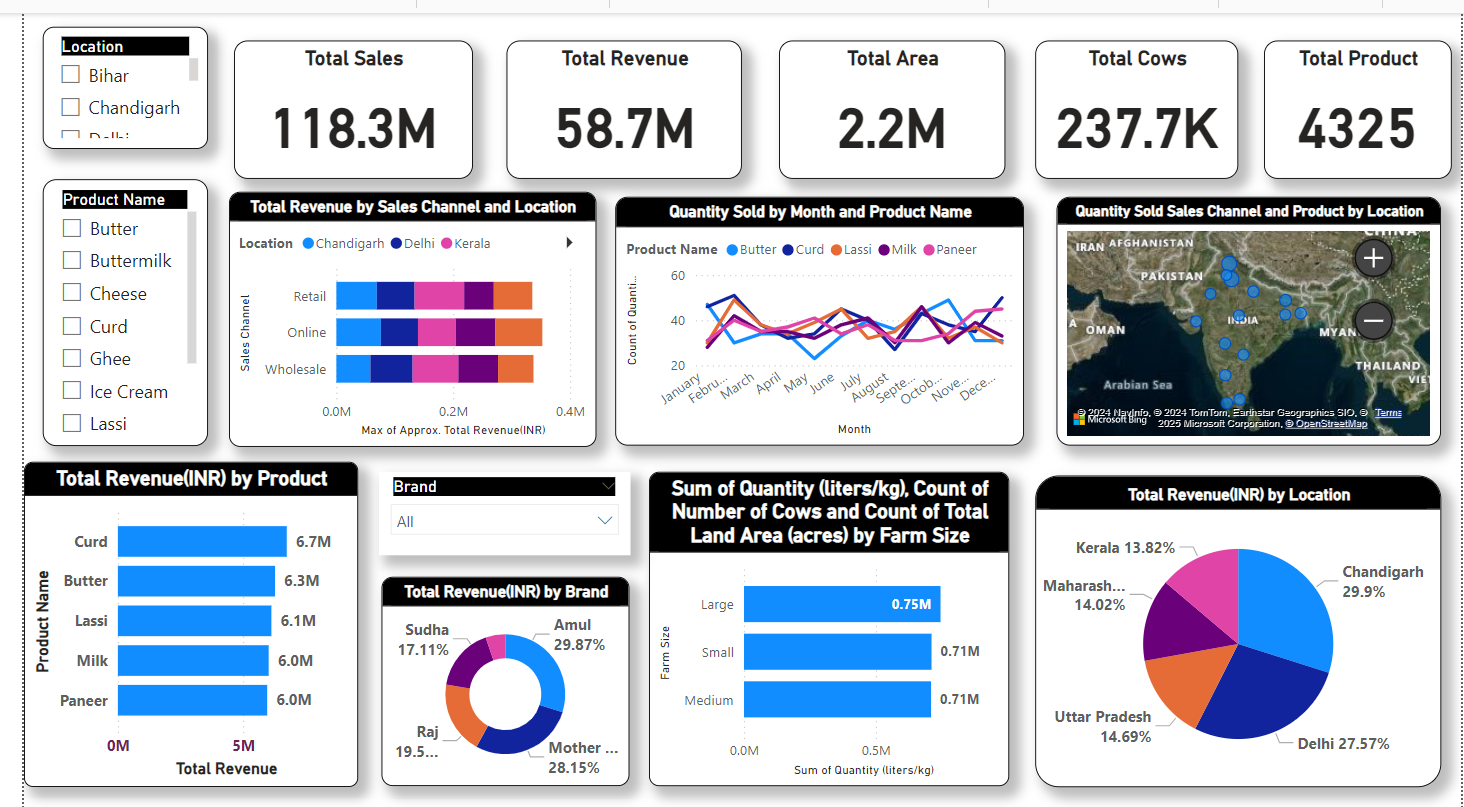

Layout of this report page (visuals, bound fields, positions):
{"tool":"powerbi","page":{"name":"Page 1","canvas":[1280,720],"ordinal":0},"visuals":[{"type":"card","title":"Total Product","fields":{"Values":["CountNonNull(dairy_dataset.Product ID)"]},"box":[1104.6,24.7,167.4,123.5],"z":0},{"type":"card","title":"Total Area","fields":{"Values":["Sum(dairy_dataset.Total Land Area (acres))"]},"box":[672.4,24.7,201.7,123.5],"z":1000},{"type":"card","title":"Total Revenue","fields":{"Values":["Sum(dairy_dataset.Approx. Total Revenue(INR))"]},"box":[429.5,24.7,209.9,123.5],"z":2000},{"type":"card","title":"Total Cows","fields":{"Values":["Sum(dairy_dataset.Number of Cows)"]},"box":[900.2,24.7,181.1,123.5],"z":3000},{"type":"clusteredBarChart","title":" Total Revenue(INR) by Product","fields":{"Category":["dairy_dataset.Product Name"],"Y":["Sum(dairy_dataset.Approx. Total Revenue(INR))"]},"box":[0,399.3,297.8,289.5],"z":4000},{"type":"pieChart","title":"Total Revenue(INR) by Location","fields":{"Category":["dairy_dataset.Location"],"Y":["Sum(dairy_dataset.Approx. Total Revenue(INR))"]},"box":[900,411.4,361.9,277.5],"z":5000},{"type":"donutChart","title":" Total Revenue(INR) by Brand","fields":{"Category":["dairy_dataset.Brand"],"Y":["Sum(dairy_dataset.Approx. Total Revenue(INR))"]},"box":[318.4,502.2,220.9,186.6],"z":6000},{"type":"lineChart","title":"Quantity Sold  by Month and Product Name","fields":{"Category":["dairy_dataset.Date.Variation.Date Hierarchy.Month"],"Series":["dairy_dataset.Product Name"],"Y":["CountNonNull(dairy_dataset.Quantity Sold (liters/kg))"]},"box":[526,164.1,364.3,222],"z":7000},{"type":"clusteredBarChart","fields":{"Category":["dairy_dataset.Farm Size"],"Y":["Sum(dairy_dataset.Quantity (liters/kg))"]},"box":[557.1,408.9,321.1,279.9],"z":8000},{"type":"map","title":" Quantity Sold Sales Channel and Product by Location","fields":{"Category":["dairy_dataset.Customer Location"],"Size":["CountNonNull(dairy_dataset.Quantity Sold (liters/kg))"]},"box":[919.3,164.1,342.6,222],"z":9000},{"type":"barChart","title":"Total Revenue by Sales Channel and Location","fields":{"Series":["dairy_dataset.Location"],"Y":["Max(dairy_dataset.Approx. Total Revenue(INR))"],"Category":["dairy_dataset.Sales Channel"]},"box":[182.2,159.3,326.9,226.8],"z":10000},{"type":"slicer","fields":{"Values":["dairy_dataset.Brand"]},"box":[315.6,408.9,223.7,74.1],"z":11000},{"type":"slicer","fields":{"Values":["dairy_dataset.Location"]},"box":[16.5,12.3,146.8,108.4],"z":12000},{"type":"slicer","fields":{"Values":["dairy_dataset.Product Name"]},"box":[16.5,148.2,146.8,237.4],"z":13000},{"type":"card","title":"Total Sales","fields":{"Values":["Sum(dairy_dataset.Total Value)"]},"box":[186.6,24.7,212.7,123.5],"z":14000}]}

Visuals, with their boxes in screenshot pixels (x1, y1, x2, y2), scaled from the page's 1280x720 canvas onto the 1464x807 screenshot:
"Total Product" card: bbox=(1263, 28, 1455, 166)
"Total Area" card: bbox=(769, 28, 1000, 166)
"Total Revenue" card: bbox=(491, 28, 731, 166)
"Total Cows" card: bbox=(1030, 28, 1237, 166)
" Total Revenue(INR) by Product" clusteredBarChart: bbox=(0, 448, 341, 772)
"Total Revenue(INR) by Location" pieChart: bbox=(1029, 461, 1443, 772)
" Total Revenue(INR) by Brand" donutChart: bbox=(364, 563, 617, 772)
"Quantity Sold  by Month and Product Name" lineChart: bbox=(602, 184, 1018, 433)
clusteredBarChart - dairy_dataset.Farm Size x Sum(dairy_dataset.Quantity (liters/kg)): bbox=(637, 458, 1004, 772)
" Quantity Sold Sales Channel and Product by Location" map: bbox=(1051, 184, 1443, 433)
"Total Revenue by Sales Channel and Location" barChart: bbox=(208, 179, 582, 433)
slicer - dairy_dataset.Brand: bbox=(361, 458, 617, 541)
slicer - dairy_dataset.Location: bbox=(19, 14, 187, 135)
slicer - dairy_dataset.Product Name: bbox=(19, 166, 187, 432)
"Total Sales" card: bbox=(213, 28, 457, 166)
